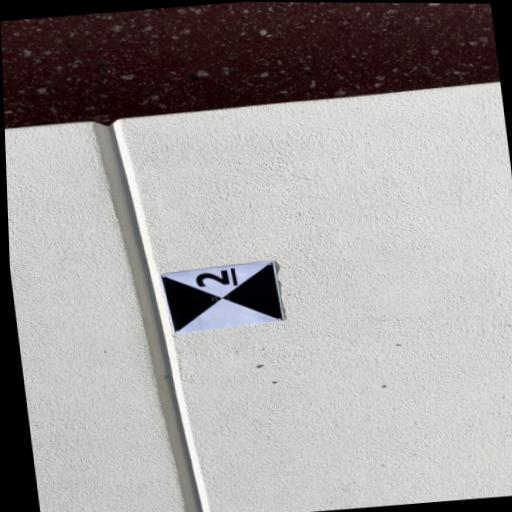target2: (163, 262, 288, 333)
